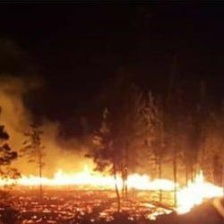fire: (1, 171, 177, 189), (180, 172, 223, 212)
